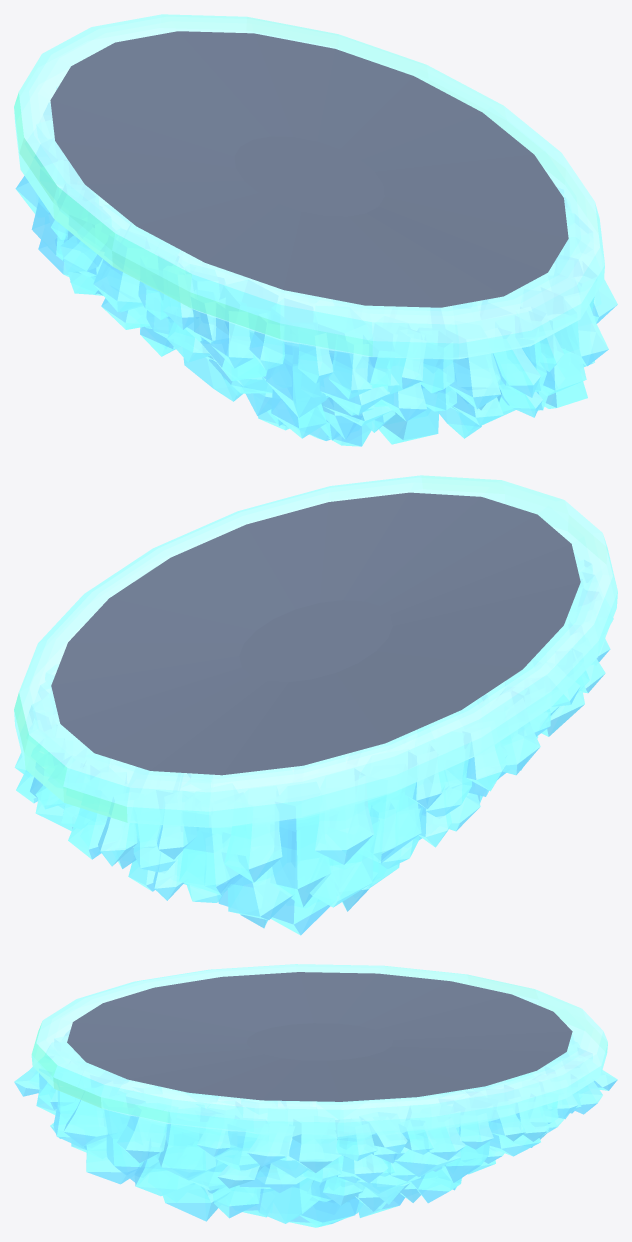
The model's file is InselLang.fbx.
The picture shows the model from 3 angles, top to bottom: view 1: azimuth 30°, elevation 25°; view 2: azimuth 150°, elevation 25°; view 3: azimuth 270°, elevation 25°; orthographic projection. The views are drawn at different scales.
Visible parts, largest first — view 1: Insel3.002; view 2: Insel3.002; view 3: Insel3.002.
Part boxes in pixels (left/top/right/bottom): Insel3.002: left=14, top=14, right=617, bottom=446; Insel3.002: left=14, top=475, right=617, bottom=935; Insel3.002: left=14, top=964, right=617, bottom=1227.
Bounding box in the file's own units: 558 × 330 × 942.
